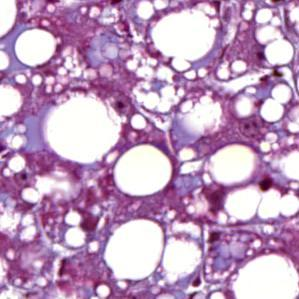steatosis: (100, 220, 168, 282), (111, 144, 175, 198)
